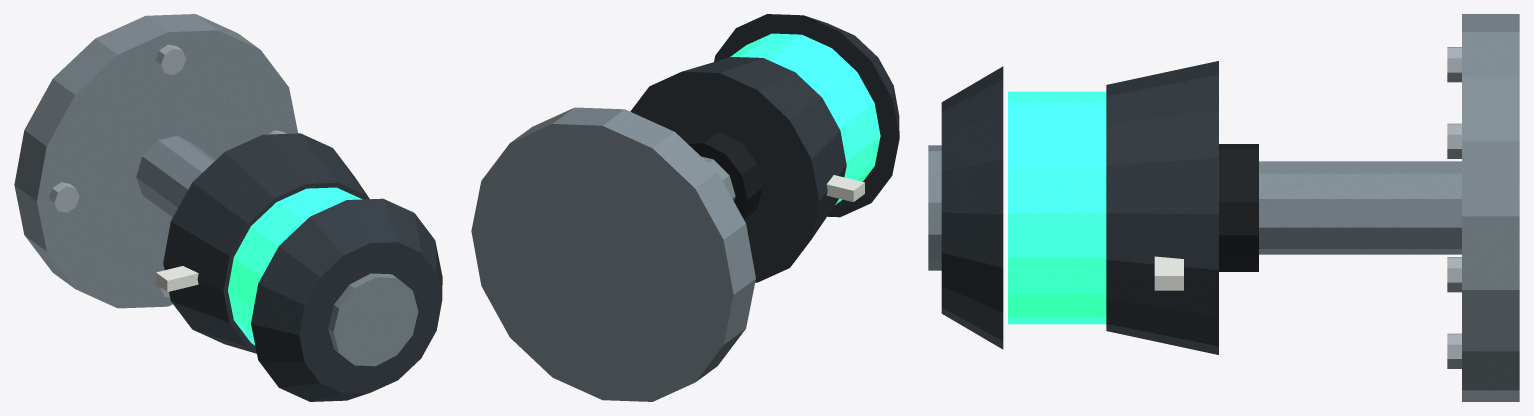
File: PZ_Threshold_Edge_Green.glb
3 views of the same model, side by side, from view 1: azimuth 30°, elevation 25°; view 2: azimuth 150°, elevation 25°; view 3: azimuth 270°, elevation 25° (orthographic). The views are drawn at different scales.
Parts seen in each view (by area): view 1: PZ_Threshold_Edge_Green__Footplate_DieCast, PZ_Threshold_Edge_Green__Top_WeatherCap, PZ_Threshold_Edge_Green__Optic_LowerHousing, PZ_Threshold_Edge_Green__Cap_Crown, PZ_Threshold_Edge_Green__Optic_Lens_green_lens, PZ_Threshold_Edge_Green__Frangible_Stem, PZ_Threshold_Edge_Green; view 2: PZ_Threshold_Edge_Green__Footplate_DieCast, PZ_Threshold_Edge_Green__Optic_LowerHousing, PZ_Threshold_Edge_Green__Optic_Lens_green_lens, PZ_Threshold_Edge_Green__Top_WeatherCap, PZ_Threshold_Edge_Green__Stem_Seal, PZ_Threshold_Edge_Green; view 3: PZ_Threshold_Edge_Green__Optic_LowerHousing, PZ_Threshold_Edge_Green__Optic_Lens_green_lens, PZ_Threshold_Edge_Green__Footplate_DieCast, PZ_Threshold_Edge_Green__Frangible_Stem, PZ_Threshold_Edge_Green__Top_WeatherCap, PZ_Threshold_Edge_Green__Stem_Seal, PZ_Threshold_Edge_Green, PZ_Threshold_Edge_Green__Cap_Crown.
Boxes of the visible parts, left/top/right/bottom form: PZ_Threshold_Edge_Green__Footplate_DieCast: left=14, top=14, right=297, bottom=308; PZ_Threshold_Edge_Green__Top_WeatherCap: left=251, top=198, right=442, bottom=401; PZ_Threshold_Edge_Green__Optic_LowerHousing: left=163, top=133, right=369, bottom=353; PZ_Threshold_Edge_Green__Cap_Crown: left=328, top=273, right=418, bottom=366; PZ_Threshold_Edge_Green__Optic_Lens_green_lens: left=228, top=187, right=361, bottom=345; PZ_Threshold_Edge_Green__Frangible_Stem: left=136, top=135, right=215, bottom=217; PZ_Threshold_Edge_Green: left=48, top=44, right=285, bottom=297; PZ_Threshold_Edge_Green__Footplate_DieCast: left=471, top=107, right=755, bottom=401; PZ_Threshold_Edge_Green__Optic_LowerHousing: left=630, top=57, right=846, bottom=282; PZ_Threshold_Edge_Green__Optic_Lens_green_lens: left=730, top=33, right=880, bottom=204; PZ_Threshold_Edge_Green__Top_WeatherCap: left=714, top=14, right=899, bottom=217; PZ_Threshold_Edge_Green__Stem_Seal: left=685, top=131, right=762, bottom=219; PZ_Threshold_Edge_Green: left=826, top=175, right=864, bottom=201; PZ_Threshold_Edge_Green__Optic_LowerHousing: left=1106, top=61, right=1218, bottom=354; PZ_Threshold_Edge_Green__Optic_Lens_green_lens: left=1008, top=91, right=1106, bottom=324; PZ_Threshold_Edge_Green__Footplate_DieCast: left=1462, top=14, right=1519, bottom=401; PZ_Threshold_Edge_Green__Frangible_Stem: left=1259, top=161, right=1461, bottom=254; PZ_Threshold_Edge_Green__Top_WeatherCap: left=941, top=66, right=1003, bottom=349; PZ_Threshold_Edge_Green__Stem_Seal: left=1219, top=144, right=1258, bottom=271; PZ_Threshold_Edge_Green: left=1154, top=47, right=1461, bottom=368; PZ_Threshold_Edge_Green__Cap_Crown: left=928, top=145, right=941, bottom=270.
Bounding box in the file's own units: 0.29 × 0.29 × 0.4415.
Materials: 2 (2 with a texture image).
